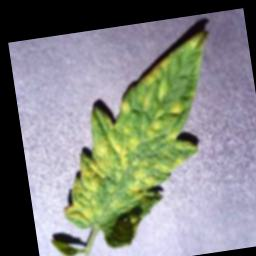Leaf_Mold: (38, 29, 237, 256)
